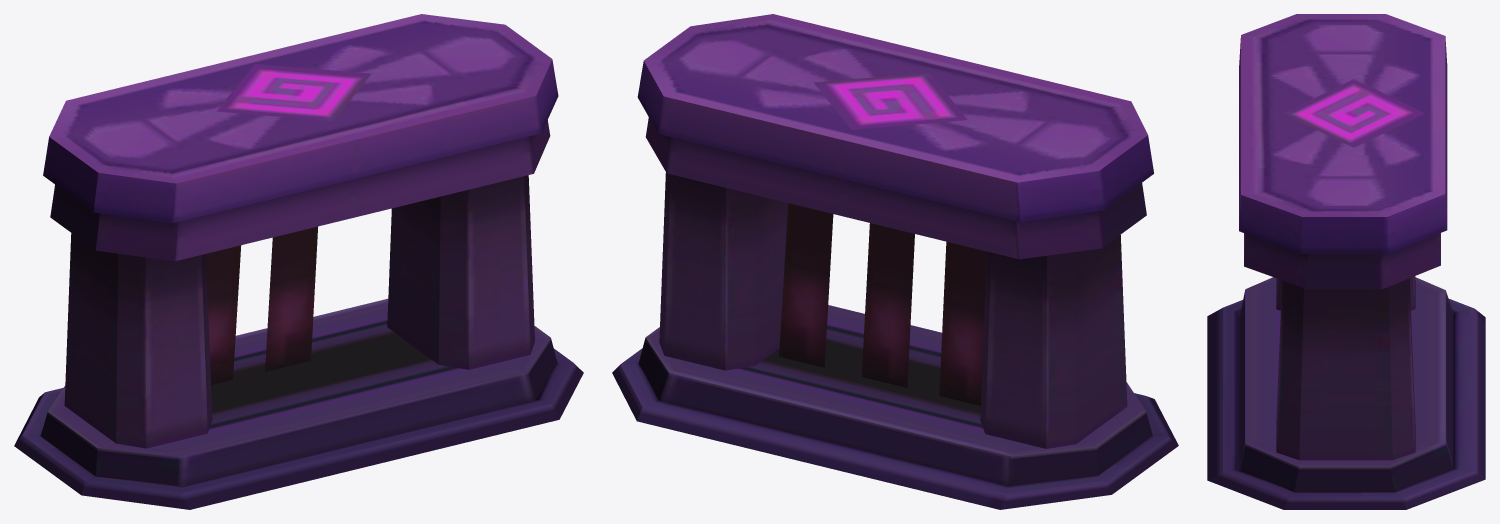
File: [gimmick]indoor_battlegate.fbx
3 renders of one model, left to right at view 1: azimuth 30°, elevation 25°; view 2: azimuth 150°, elevation 25°; view 3: azimuth 270°, elevation 25°, orthographic. The views are drawn at different scales.
Parts seen in each view (by area): view 1: battlegate_part2, battlegate_part2_base; view 2: battlegate_part2, battlegate_part2_base; view 3: battlegate_part2, battlegate_part2_base.
Part boxes in pixels (left/top/right/bottom): battlegate_part2: left=41, top=14, right=558, bottom=486; battlegate_part2_base: left=14, top=349, right=583, bottom=509; battlegate_part2: left=637, top=14, right=1153, bottom=485; battlegate_part2_base: left=612, top=348, right=1178, bottom=509; battlegate_part2: left=1239, top=14, right=1453, bottom=492; battlegate_part2_base: left=1207, top=299, right=1485, bottom=509.
Bounding box in the file's own units: 2.01 × 1.2 × 1.06.
1 material, 1 textured.
